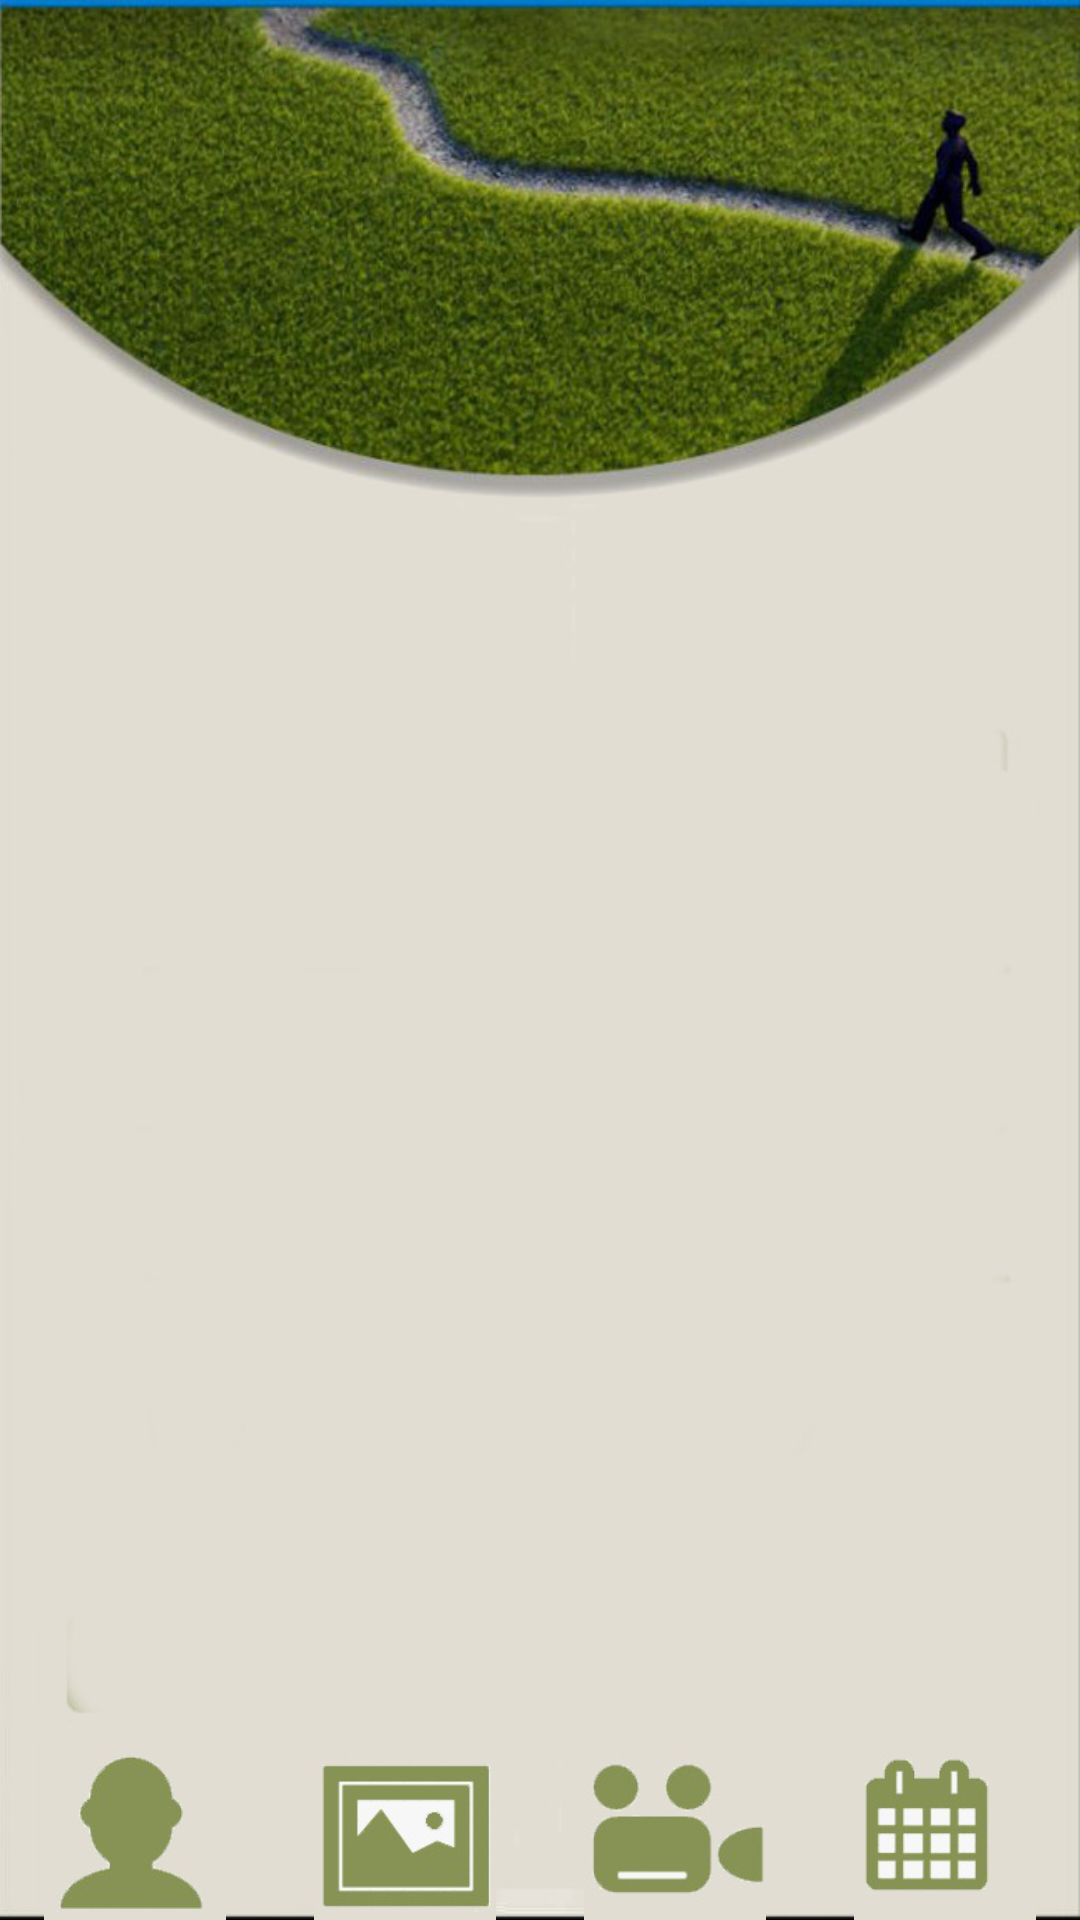

Where to tap for icons on this 1080×1920 app screen, as (x=x, y=y):
memorialevent: (x=926, y=1824)
profile: (x=101, y=1838)
video: (x=678, y=1829)
